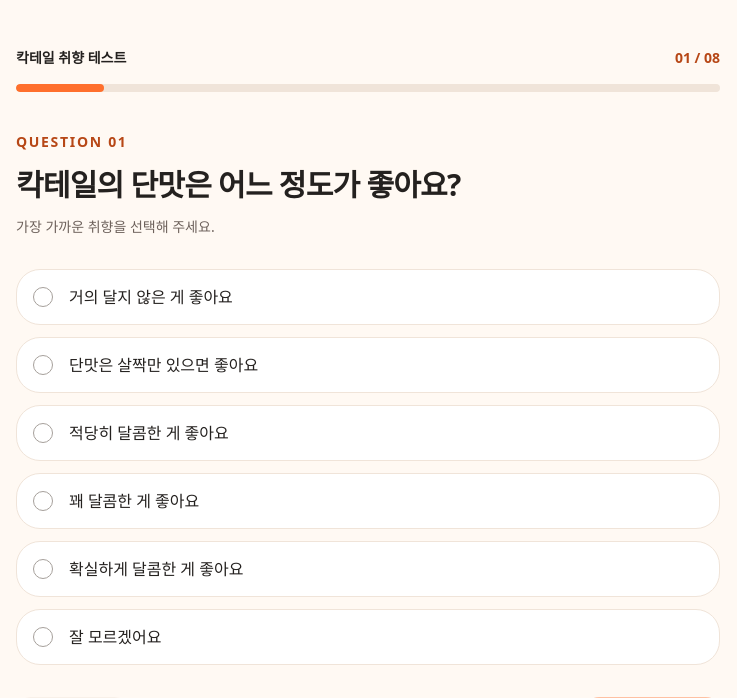
Test: Assessment › moves from Q1 to Q2 only after medium is selected and next is clicked
Expected: the heading "칵테일의 단맛은 어느 정도가 좋아요?" is shown, [16, 164, 460, 205]
Click the radio button labelled "적당히 달콤한 게 좋아요".
click(43, 433)  # box [33, 423, 53, 443]
(page scrolled)
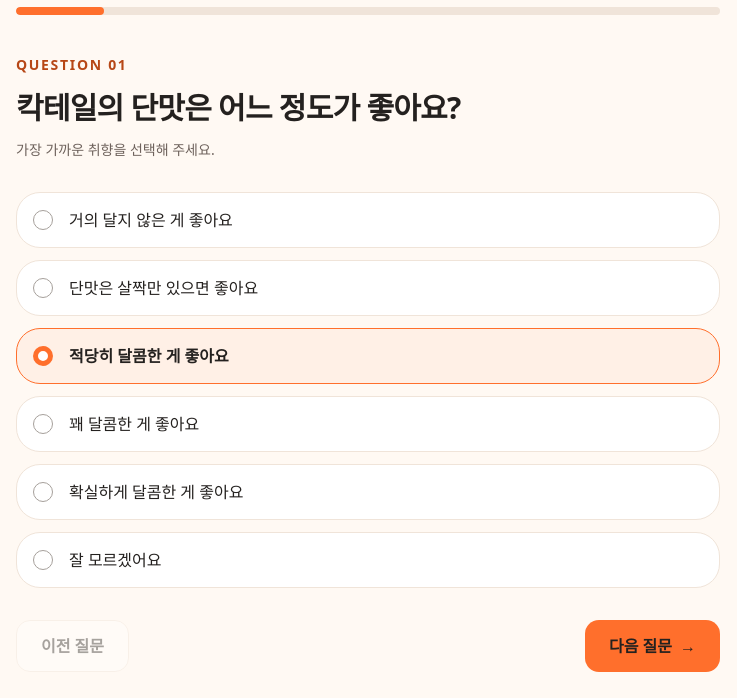
Expected: the heading "칵테일의 단맛은 어느 정도가 좋아요?" is shown, [16, 87, 460, 128]
Click the button "다음 질문 →".
click(652, 646)  # box [585, 620, 720, 672]
(page scrolled)
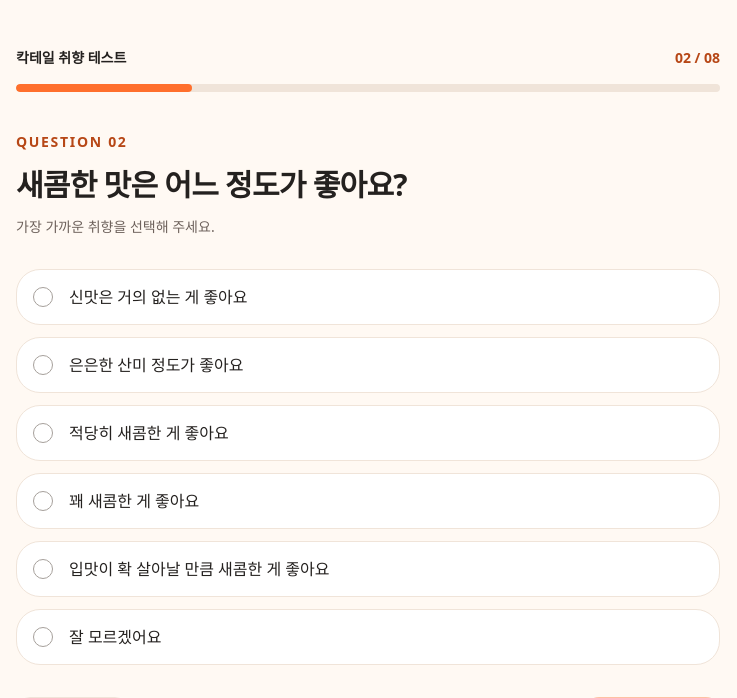
Expected: the heading "새콤한 맛은 어느 정도가 좋아요?" is shown, [16, 164, 407, 205]
Expected: the text named "질문 2 / 8" is shown, [675, 48, 720, 68]
